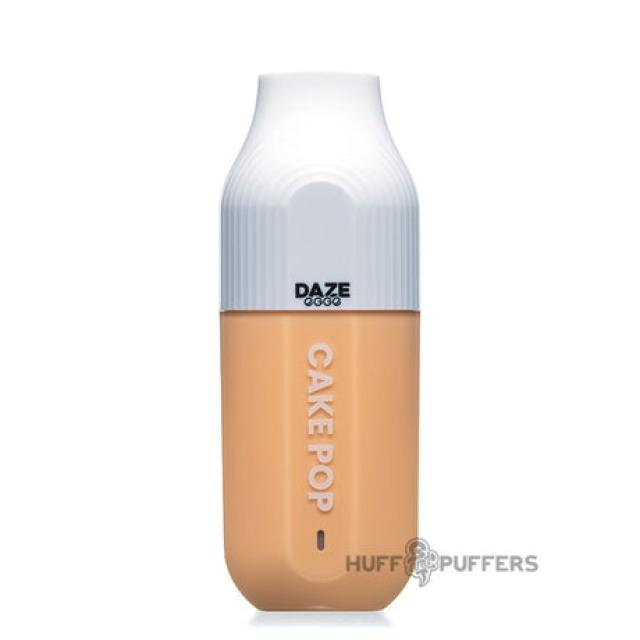Vape-images: (217, 70, 422, 612)
